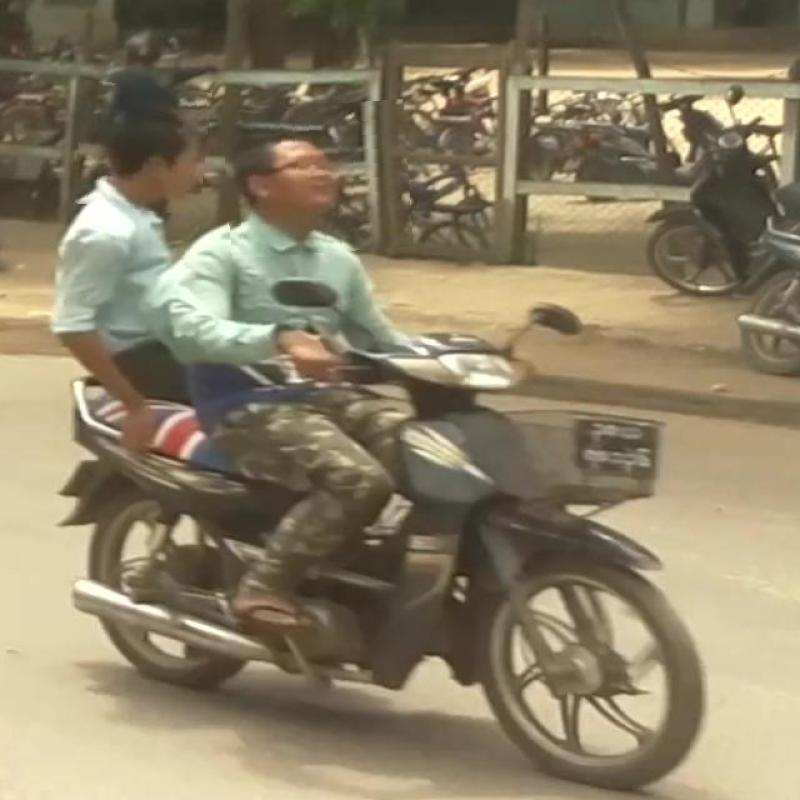nohelmet: (224, 102, 412, 256), (75, 83, 209, 213)
